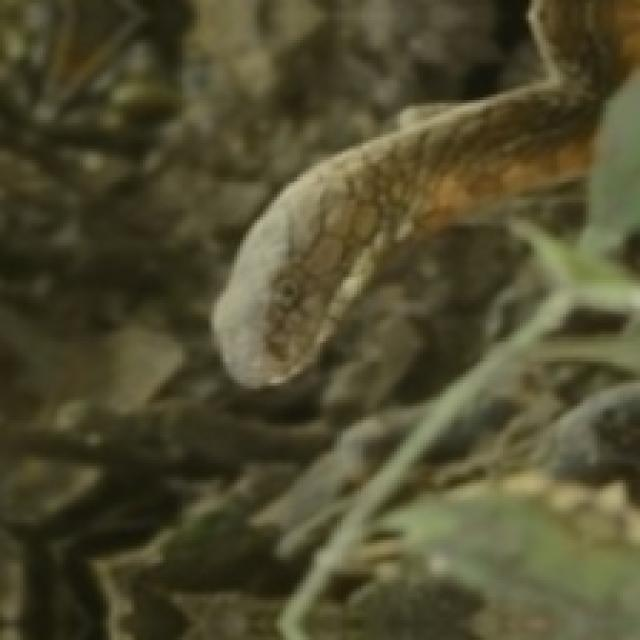king cobra: (211, 0, 637, 637), (211, 0, 637, 386), (411, 217, 531, 294)
